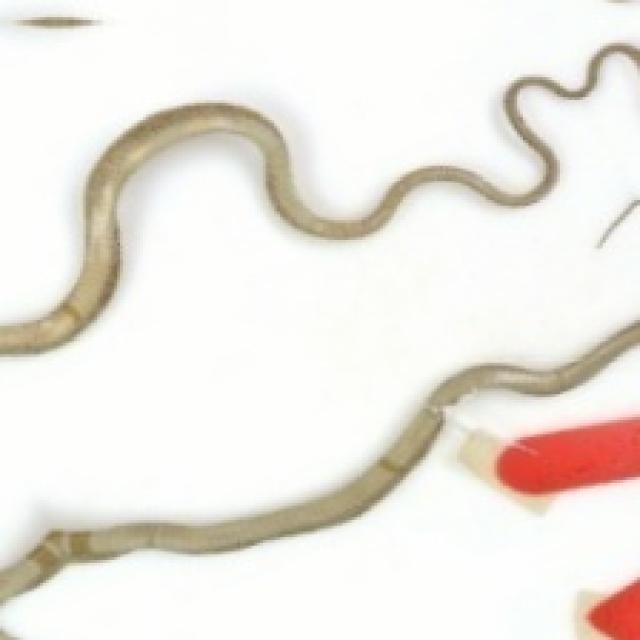mullers wolf snake: (0, 57, 637, 563), (0, 0, 637, 320), (0, 349, 637, 637)
